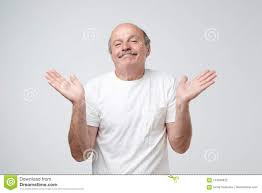white_male: (96, 25, 145, 72)
